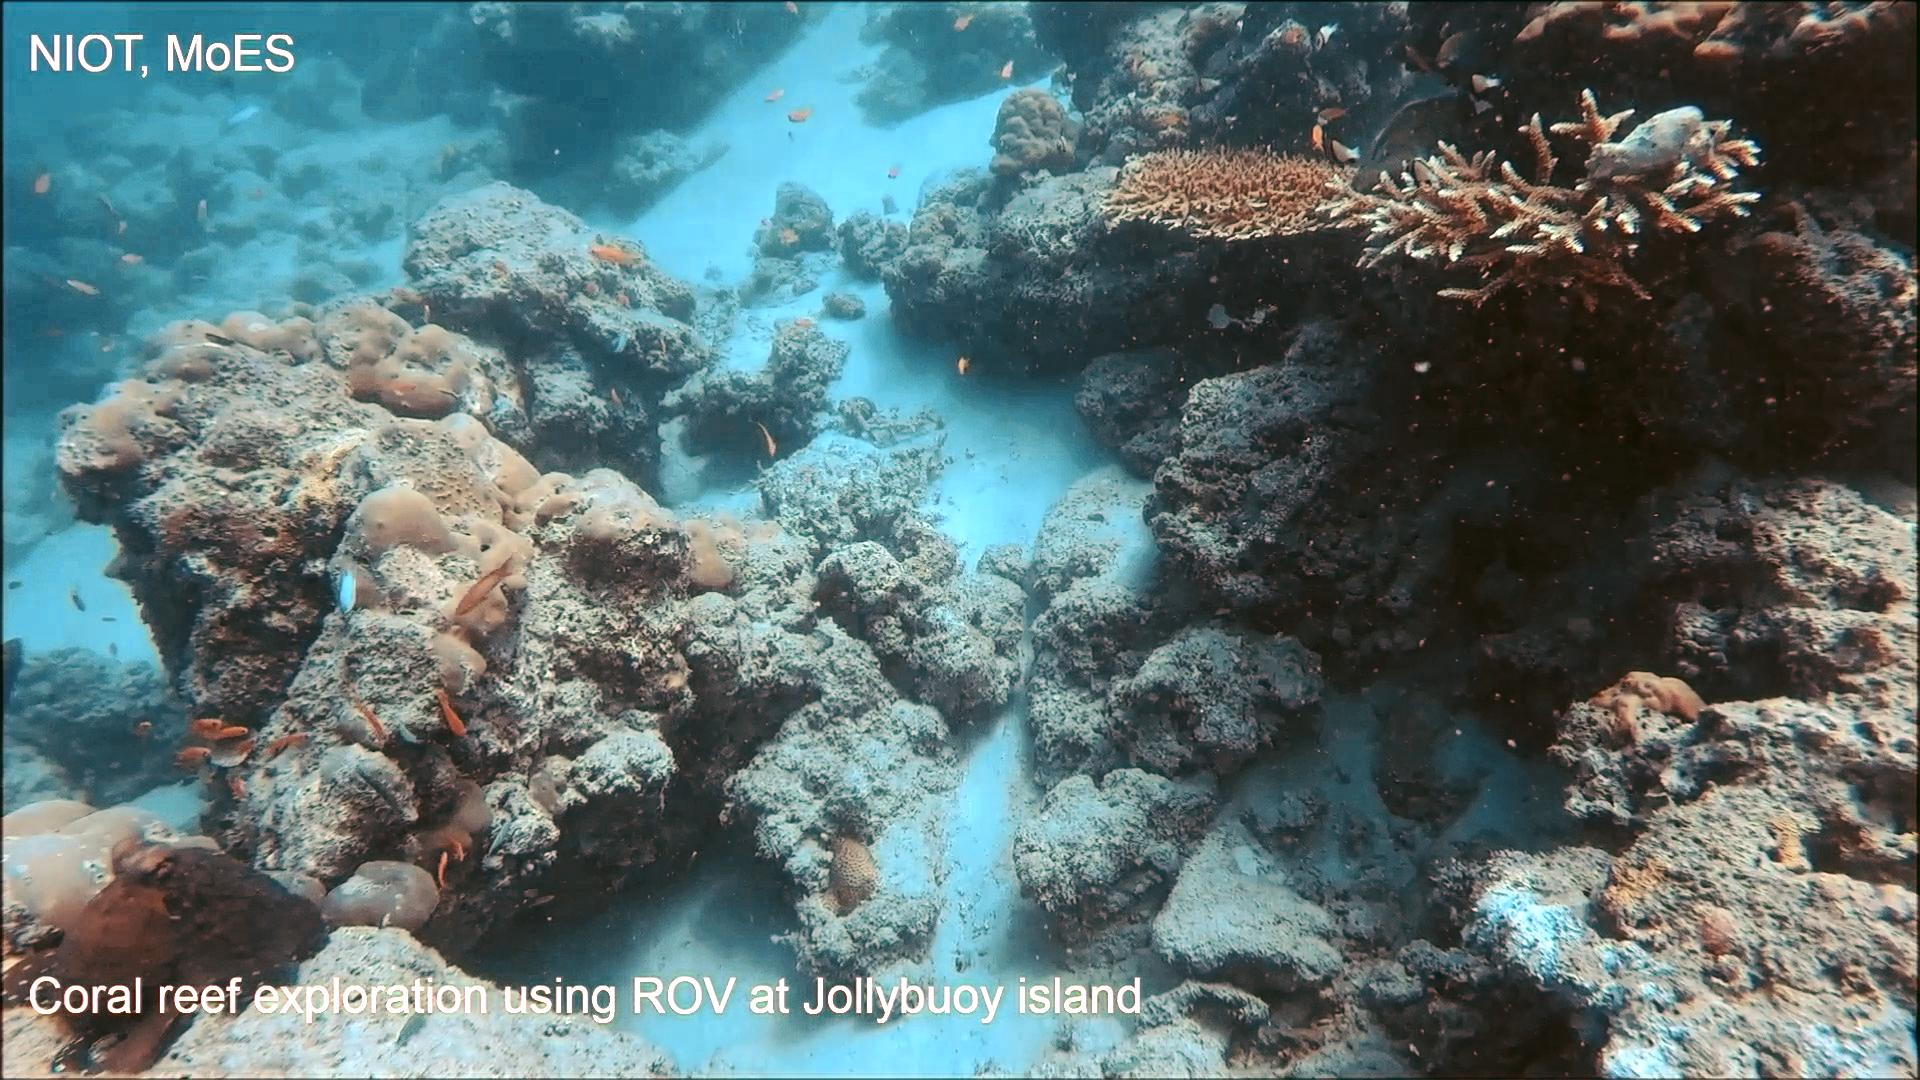Porites-Porites pukoensis: (289, 289, 589, 671)
